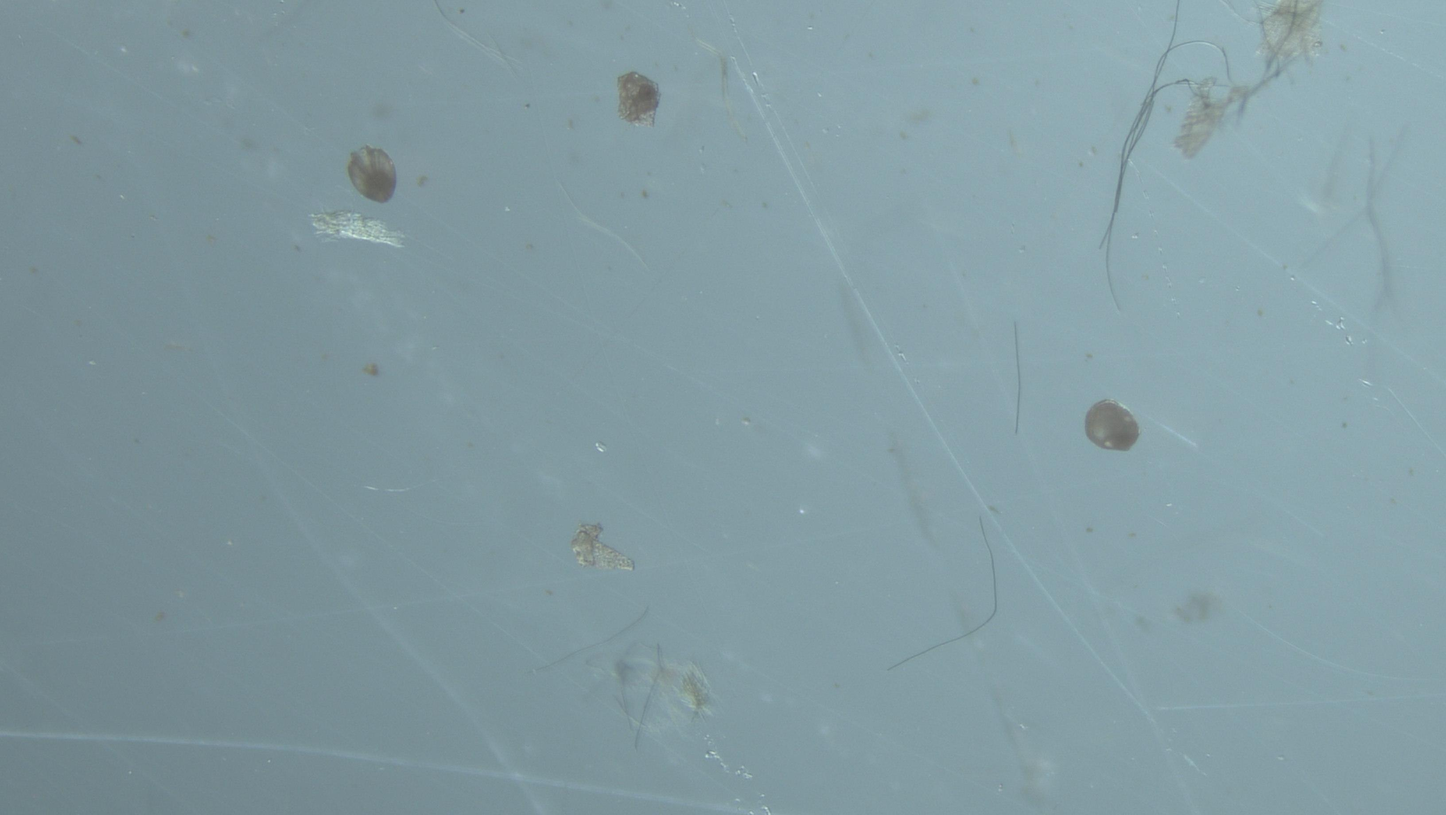live: (1085, 400, 1140, 451), (347, 146, 396, 203)
